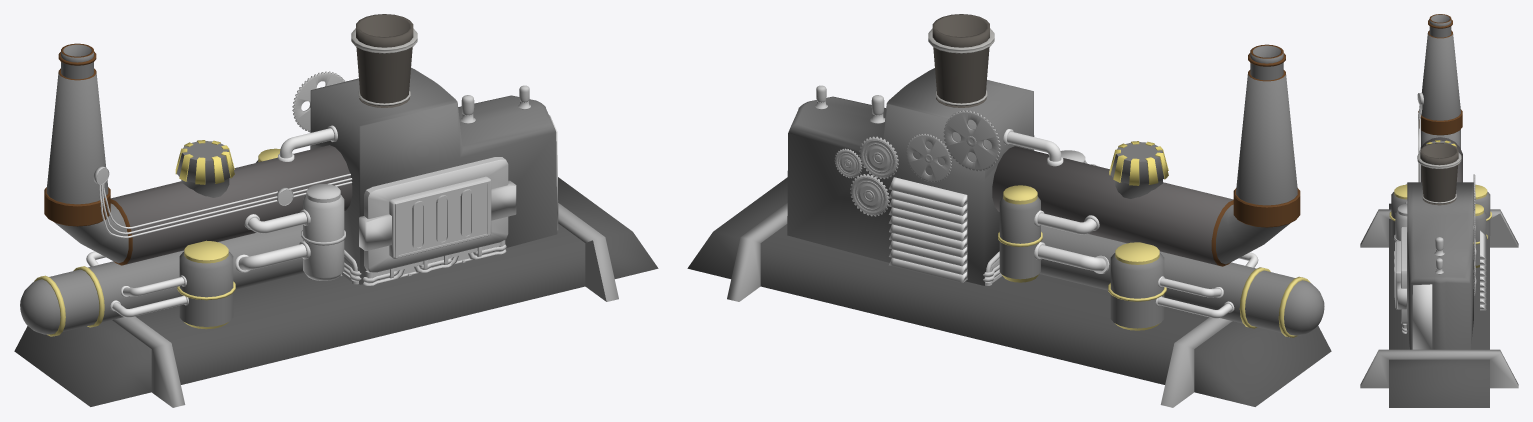
The model's file is Generator01.fbx.
The picture shows the model from 3 angles, left to right: view 1: azimuth 30°, elevation 25°; view 2: azimuth 150°, elevation 25°; view 3: azimuth 270°, elevation 25°; orthographic projection. The views are drawn at different scales.
Visible parts, largest first — view 1: Base001, Generator, Box001, HeaterDoor001, MainFuel, Exhaust002, FuelContainer001, FuelContainer002, Exhaust001, Pipe002, Gear001, Grill002 (+8 smaller); view 2: Base001, Generator, Box001, MainFuel, VENT003, Exhaust002, FuelContainer001, FuelContainer002, Exhaust001, Gear001, Gear003, Gear002 (+7 smaller); view 3: Base001, Box001, Generator, Exhaust002, HeaterDoor001, FuelContainer001 (×2), FuelContainer002 (×2), VENT003.
Part boxes in pixels (left/top/right/bottom): Base001: left=14, top=177, right=658, bottom=407; Generator: left=44, top=43, right=352, bottom=265; Box001: left=310, top=67, right=558, bottom=284; HeaterDoor001: left=359, top=157, right=516, bottom=272; MainFuel: left=20, top=224, right=304, bottom=336; Exhaust002: left=351, top=14, right=417, bottom=107; FuelContainer001: left=177, top=240, right=235, bottom=329; FuelContainer002: left=301, top=184, right=345, bottom=280; Exhaust001: left=175, top=140, right=234, bottom=197; Pipe002: left=235, top=241, right=310, bottom=272; Gear001: left=292, top=71, right=344, bottom=132; Grill002: left=362, top=254, right=452, bottom=285; Base001: left=687, top=177, right=1331, bottom=407; Generator: left=992, top=44, right=1300, bottom=266; Box001: left=787, top=68, right=1034, bottom=285; MainFuel: left=1040, top=225, right=1324, bottom=337; VENT003: left=889, top=177, right=967, bottom=283; Exhaust002: left=928, top=14, right=994, bottom=107; FuelContainer001: left=1108, top=242, right=1166, bottom=330; FuelContainer002: left=998, top=185, right=1042, bottom=282; Exhaust001: left=1109, top=141, right=1168, bottom=198; Gear001: left=943, top=110, right=1000, bottom=171; Gear003: left=906, top=133, right=952, bottom=182; Gear002: left=859, top=136, right=898, bottom=178; Base001: left=1360, top=203, right=1518, bottom=407; Box001: left=1407, top=182, right=1473, bottom=349; Generator: left=1418, top=14, right=1462, bottom=182; Exhaust002: left=1417, top=143, right=1461, bottom=205; HeaterDoor001: left=1394, top=227, right=1406, bottom=323; FuelContainer001 (×2): left=1389, top=184, right=1491, bottom=237; FuelContainer002 (×2): left=1394, top=203, right=1487, bottom=267; VENT003: left=1480, top=230, right=1486, bottom=310.
Size of the model in its own units: 519 by 268 by 180.
